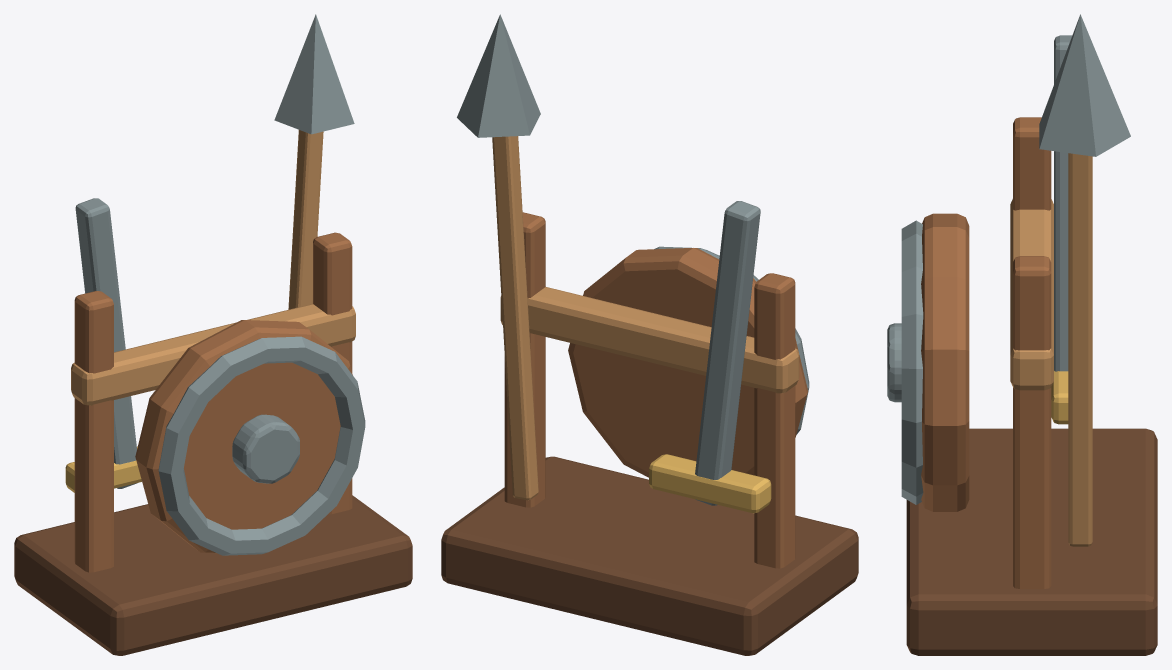
Rendered from economy_cargo_weapons_v01.glb.
3 renders of one model, left to right at view 1: azimuth 30°, elevation 25°; view 2: azimuth 150°, elevation 25°; view 3: azimuth 270°, elevation 25°, orthographic. The views are drawn at different scales.
Visible parts, largest first — view 1: GEO_WeaponRackBase, GEO_Shield, GEO_ShieldRim, GEO_WeaponRackPost, GEO_WeaponRackRail, GEO_SwordBlade, GEO_SpearHead, GEO_SpearShaft, GEO_WeaponRackPost.001, GEO_ShieldBoss, GEO_SwordGuard; view 2: GEO_WeaponRackBase, GEO_Shield, GEO_WeaponRackRail, GEO_WeaponRackPost, GEO_SwordBlade, GEO_SpearShaft, GEO_SpearHead, GEO_WeaponRackPost.001, GEO_SwordGuard; view 3: GEO_WeaponRackBase, GEO_Shield, GEO_WeaponRackPost.001, GEO_SpearShaft, GEO_SpearHead, GEO_ShieldRim, GEO_WeaponRackRail, GEO_SwordBlade, GEO_WeaponRackPost, GEO_ShieldBoss, GEO_SwordGuard.
Boxes of the visible parts, x1,y1,x2,y2 form: GEO_WeaponRackBase: (14, 495, 412, 655); GEO_Shield: (135, 320, 352, 554); GEO_ShieldRim: (158, 336, 365, 555); GEO_WeaponRackPost: (74, 291, 113, 572); GEO_WeaponRackRail: (71, 304, 355, 405); GEO_SwordBlade: (75, 198, 137, 488); GEO_SpearHead: (274, 14, 354, 134); GEO_SpearShaft: (288, 130, 323, 309); GEO_WeaponRackPost.001: (313, 232, 352, 514); GEO_ShieldBoss: (232, 414, 299, 483); GEO_SwordGuard: (65, 446, 141, 492); GEO_WeaponRackBase: (441, 456, 858, 655); GEO_Shield: (568, 248, 808, 477); GEO_WeaponRackRail: (500, 287, 799, 393); GEO_WeaponRackPost: (754, 273, 795, 568); GEO_SwordBlade: (695, 201, 760, 505); GEO_SpearShaft: (492, 136, 538, 500); GEO_SpearHead: (457, 14, 540, 137); GEO_WeaponRackPost.001: (504, 212, 545, 507); GEO_SwordGuard: (649, 454, 771, 513); GEO_WeaponRackBase: (906, 428, 1157, 655); GEO_Shield: (921, 213, 969, 511); GEO_WeaponRackPost.001: (1013, 256, 1051, 589); GEO_SpearShaft: (1068, 153, 1092, 546); GEO_SpearHead: (1039, 14, 1130, 156); GEO_ShieldRim: (901, 220, 923, 504); GEO_WeaponRackRail: (1010, 199, 1053, 390); GEO_SwordBlade: (1054, 35, 1072, 371); GEO_WeaponRackPost: (1013, 117, 1051, 210); GEO_ShieldBoss: (887, 323, 901, 402); GEO_SwordGuard: (1051, 371, 1068, 424).
Size of the model in its own units: 0.8799 by 1.44 by 0.56.
